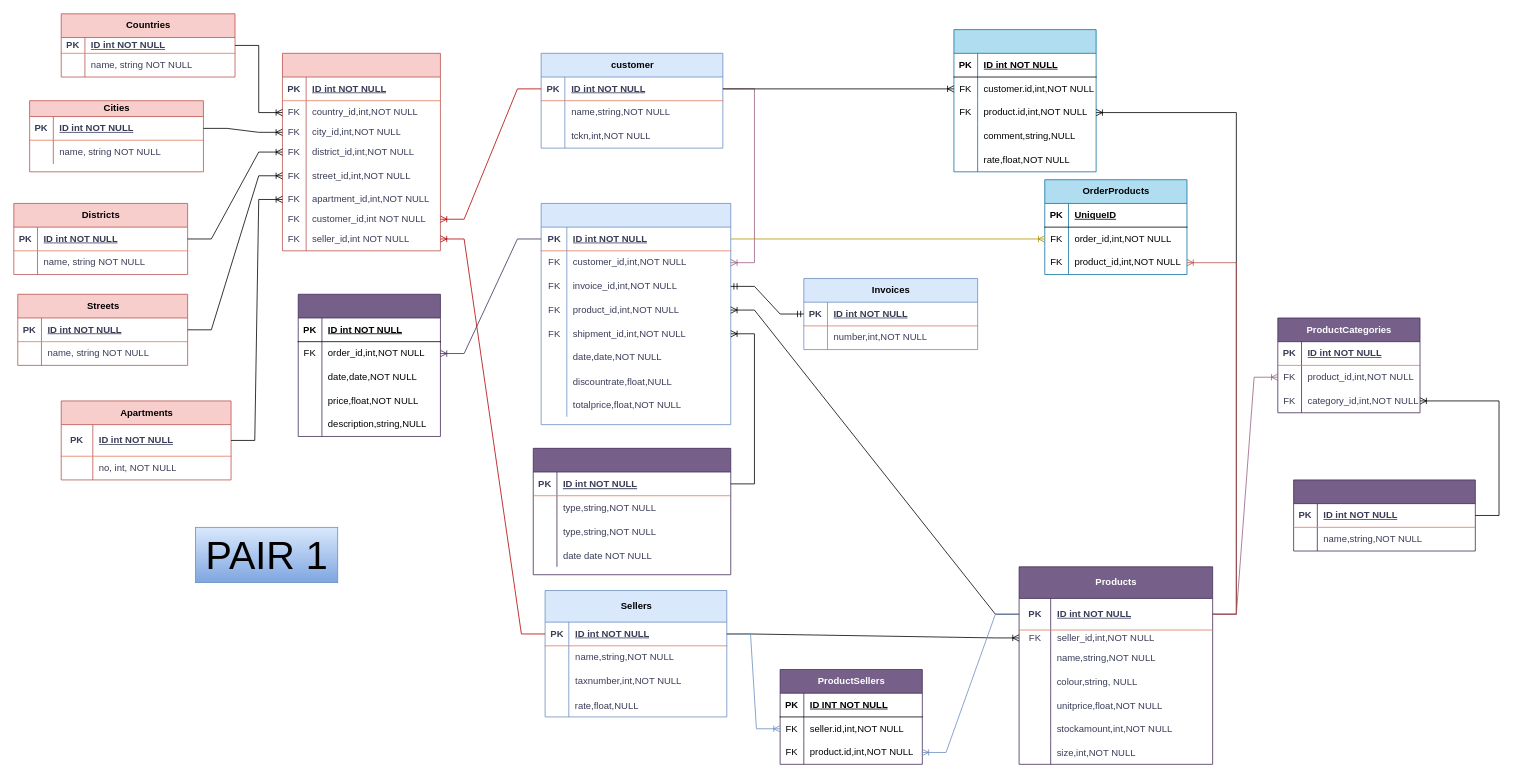
Some shapes in this 1519 by 778 pixel diagram are drawn without their labels. The shapes that lost their labels are listed below. From the top down, each one's box as (x1, y1, x2, y2) in pixels, then its label:
(953, 29, 1096, 172): ProductRates
(282, 53, 440, 251): addresses
(540, 203, 731, 425): Orders
(297, 293, 440, 436): Returns
(532, 448, 731, 575): Shipments
(1293, 479, 1475, 551): Categories
